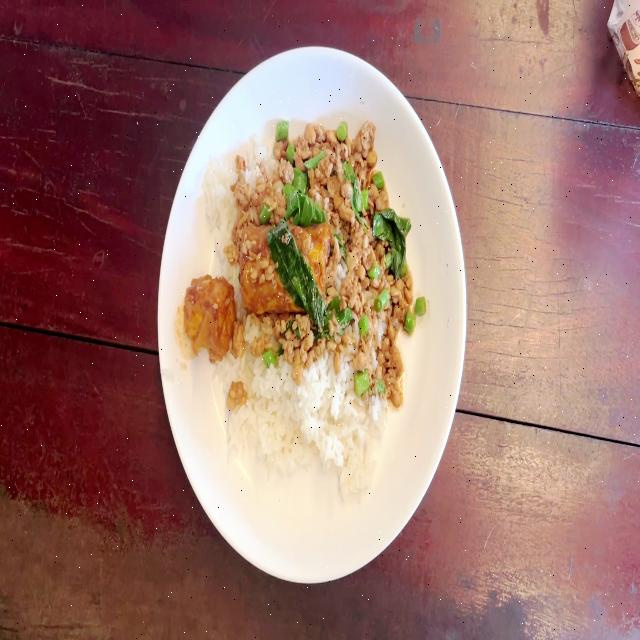fried_tofo: (239, 220, 331, 308), (189, 278, 233, 351)
minced_pork: (233, 121, 403, 221), (335, 221, 411, 395)
rice: (212, 358, 382, 471)
stir_fried_basil: (185, 117, 424, 505)
